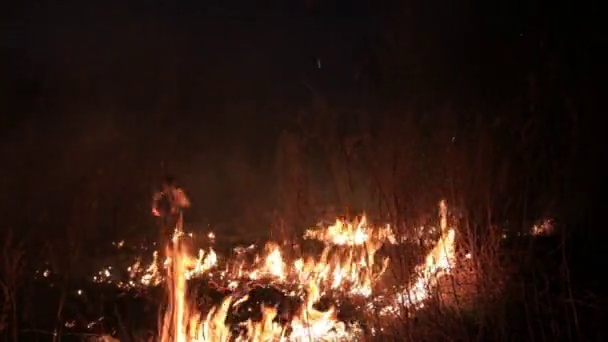fire: (249, 215, 389, 288), (158, 228, 230, 341), (382, 225, 456, 316), (235, 292, 360, 341), (142, 252, 159, 285)
